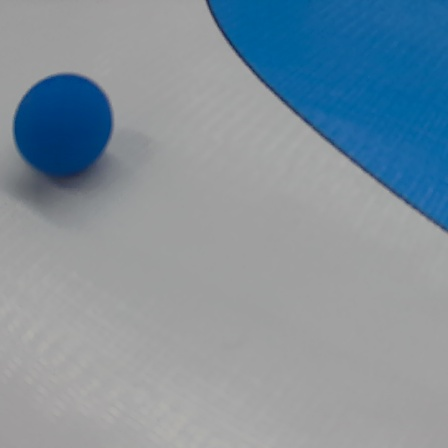blue: (12, 72, 117, 189)
blue_base: (206, 0, 448, 238)
